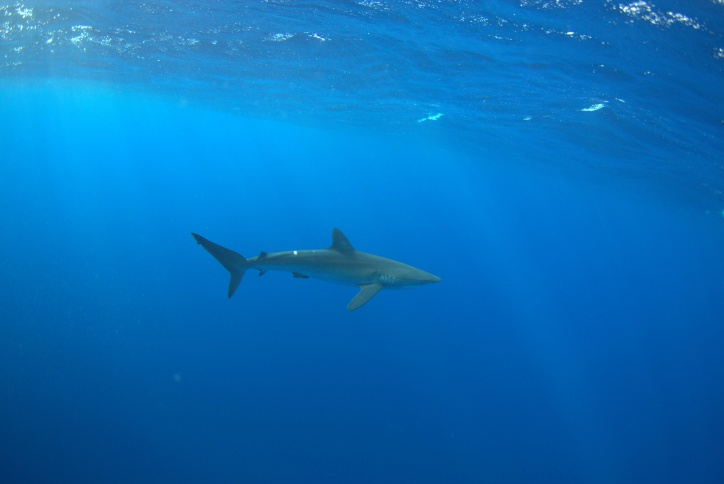Sedoso: (184, 217, 449, 320)
